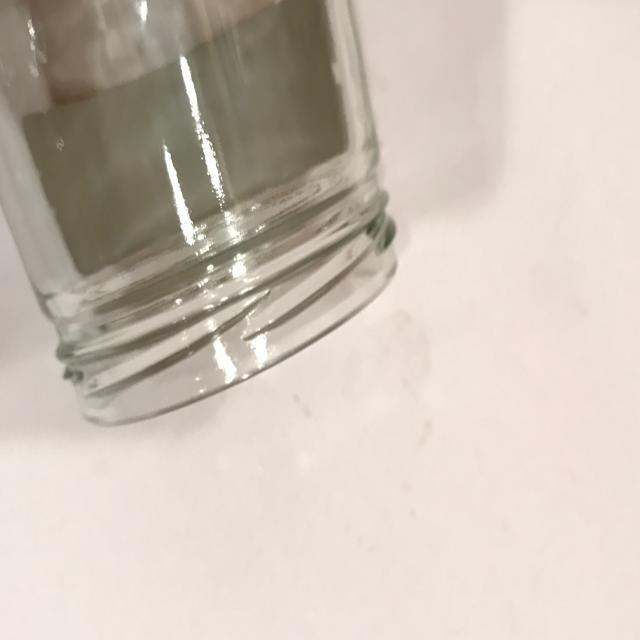glass: (1, 2, 398, 429)
